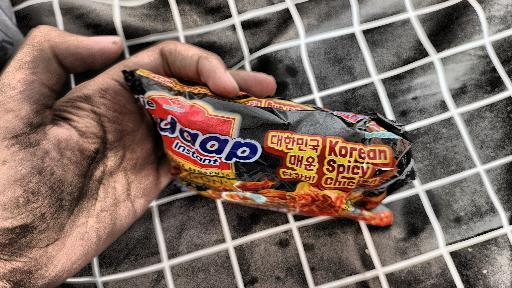mie sedap: (100, 9, 421, 261)
